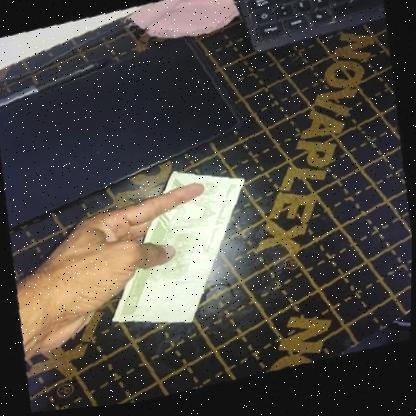fifty-back-vef: (87, 152, 271, 350)
